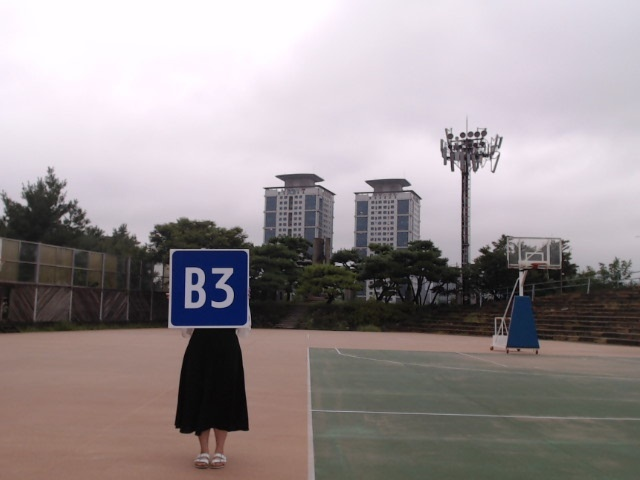delivery_b3: (170, 250, 249, 327)
